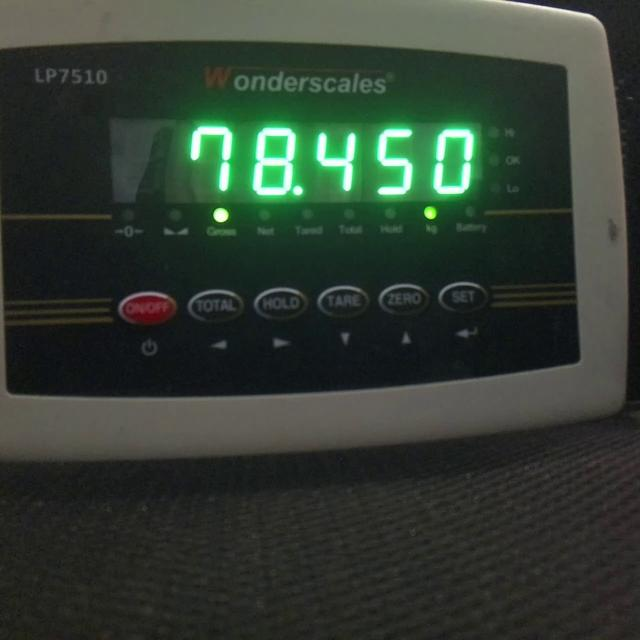.: (292, 184, 305, 198)
0: (434, 128, 475, 194)
4: (316, 130, 356, 194)
5: (374, 127, 414, 195)
7: (190, 124, 232, 192)
8: (252, 126, 297, 196)
